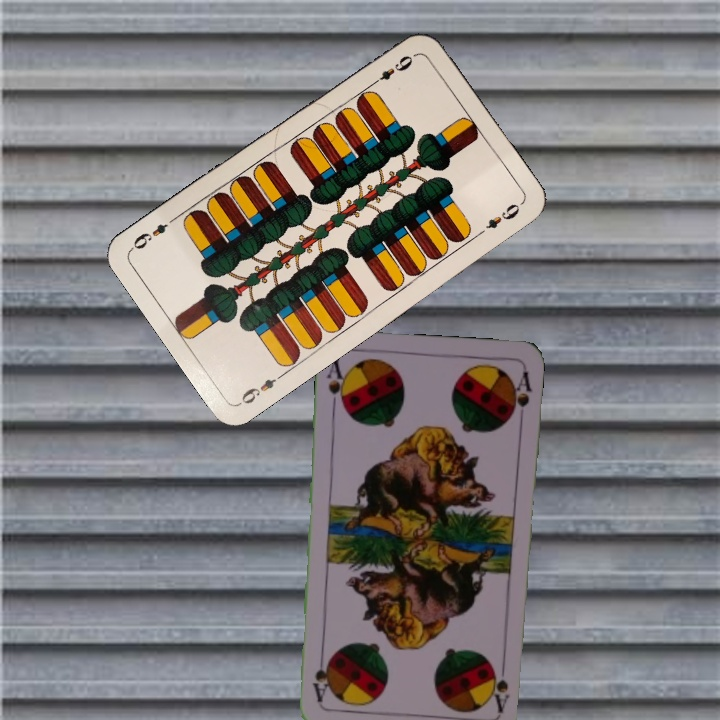E9: (367, 49, 419, 89), (235, 368, 288, 407)
SA: (323, 354, 349, 413), (489, 655, 512, 714)
